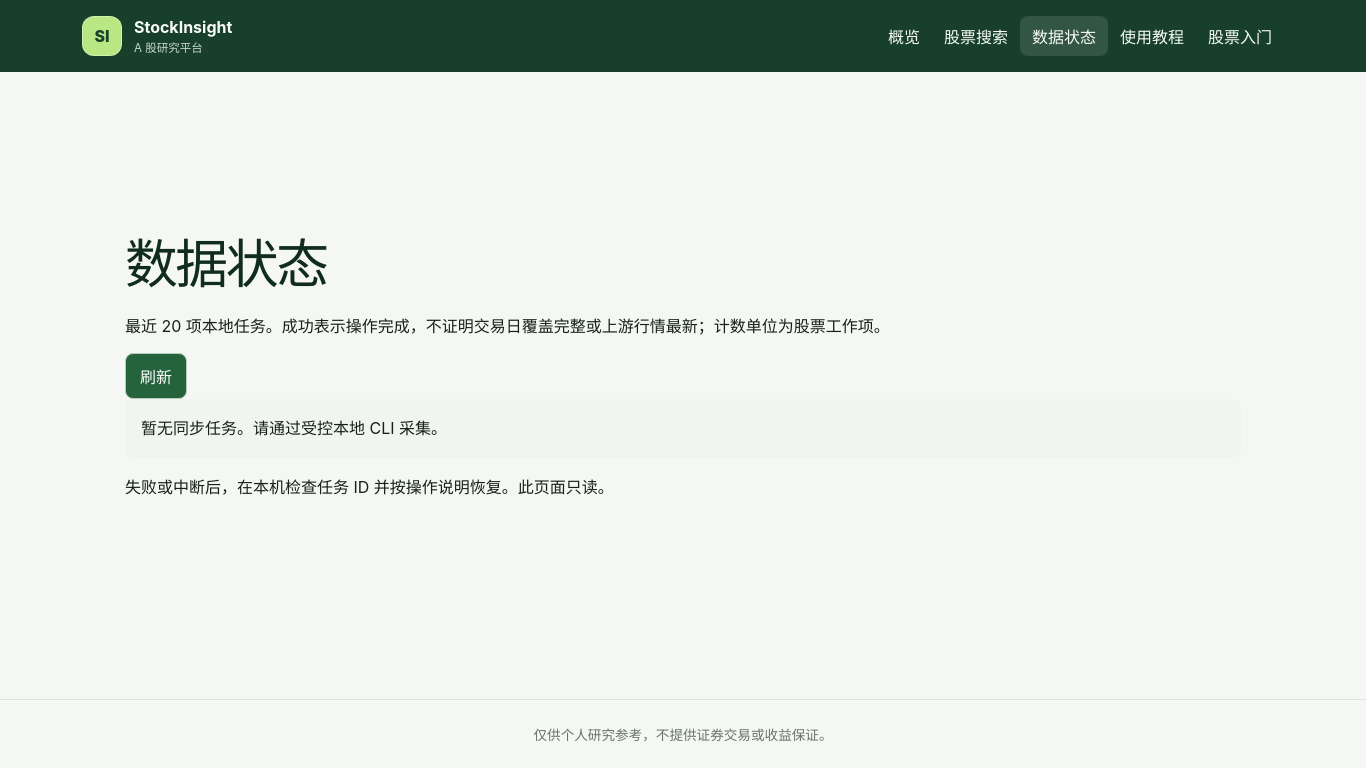
shows data status empty, safe errors, partial counts and refresh
Click the button "刷新": (156,376) [125,353,187,399]
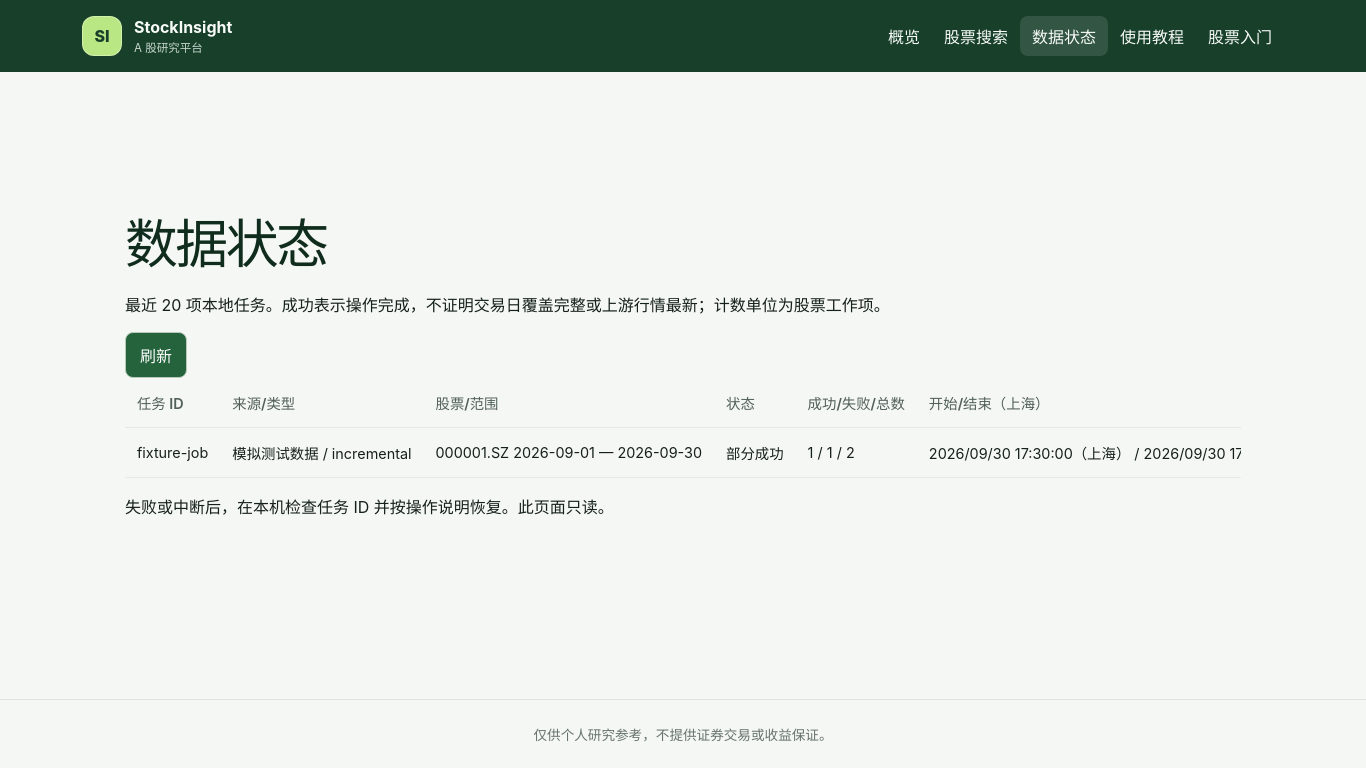
Now the text "部分成功" is shown, box [714,428,796,478]
Now the text "1 / 1 / 2" is shown, box [796,428,917,478]
Now the text "17:30:00" is shown, box [929,445,1241,462]
